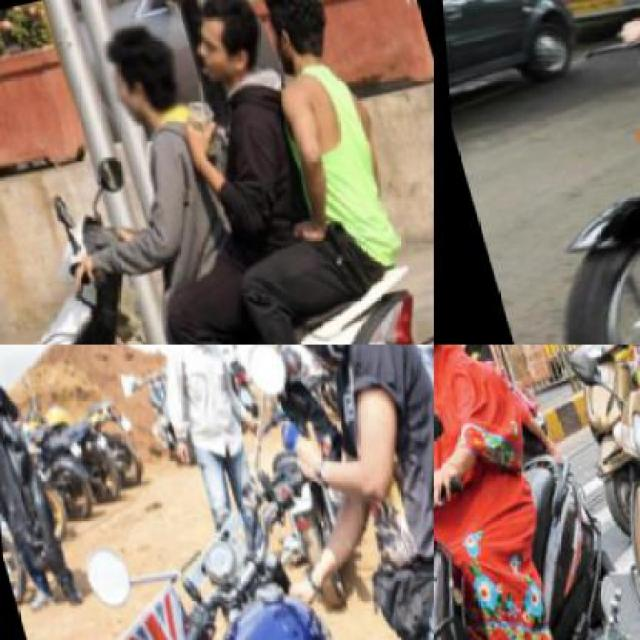With Helmet: (232, 344, 391, 384)
Without Helmet: (92, 12, 190, 132), (174, 0, 278, 102), (250, 0, 348, 91)
